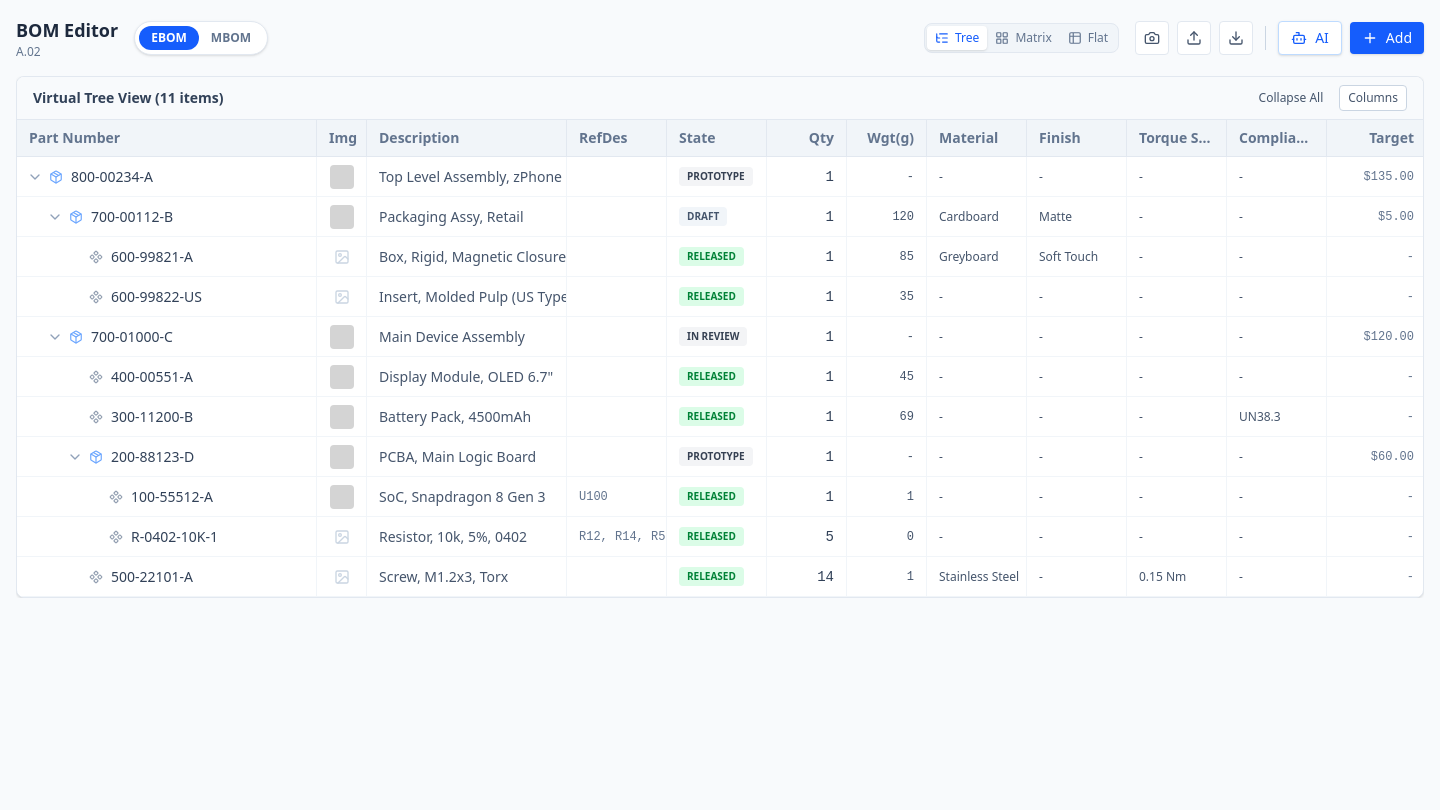
Scenario: role use-case frontend standards › lets Admin create a local BOM item from the Add flow
This screenshot has width=1440, height=810.
Click the button with aria-label "Add Item". click: (1387, 38)
box: x1=1350 y1=22 x2=1424 y2=54
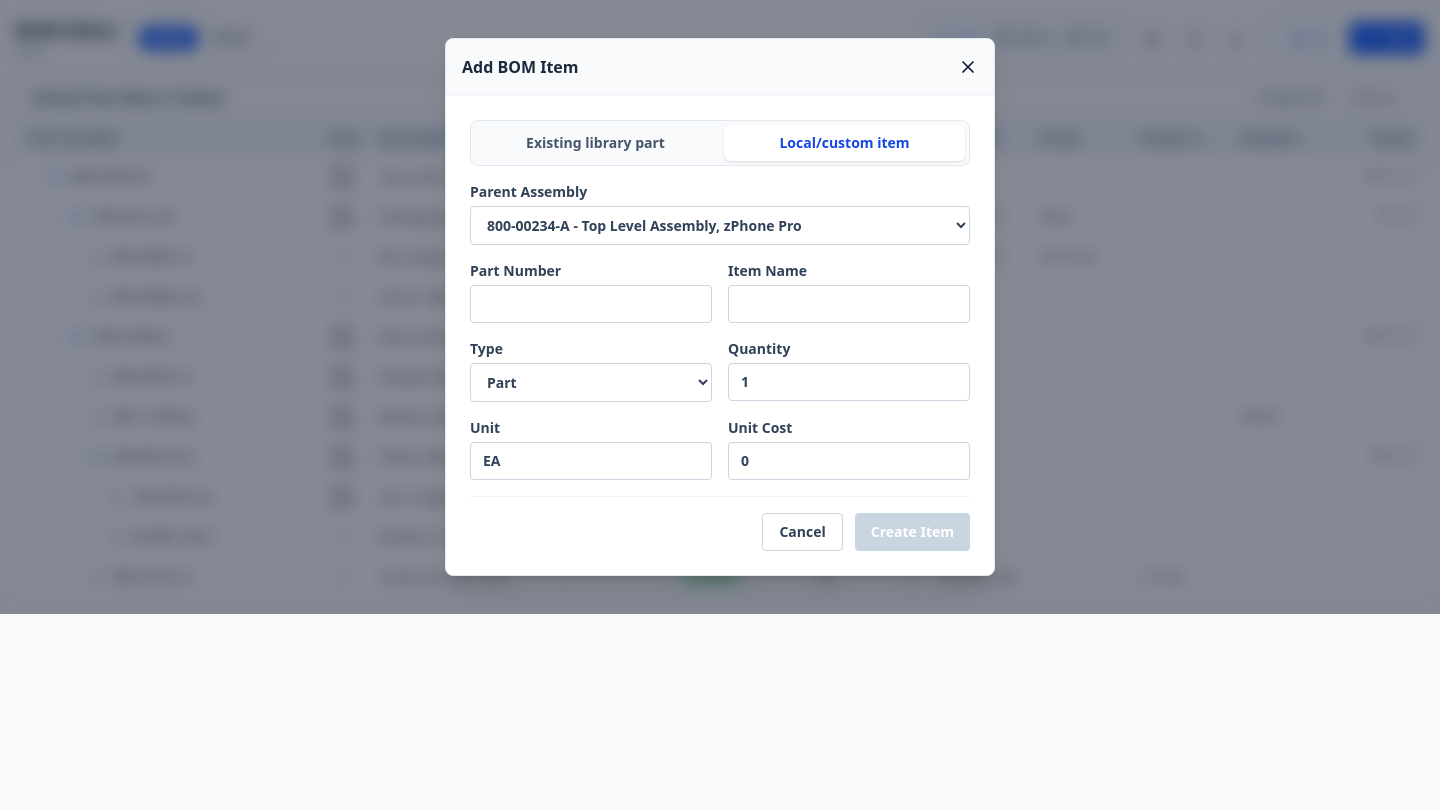
Type "900-TEST-001" into the field labelled "Part Number". click: (591, 304)
box: x1=470 y1=285 x2=712 y2=323
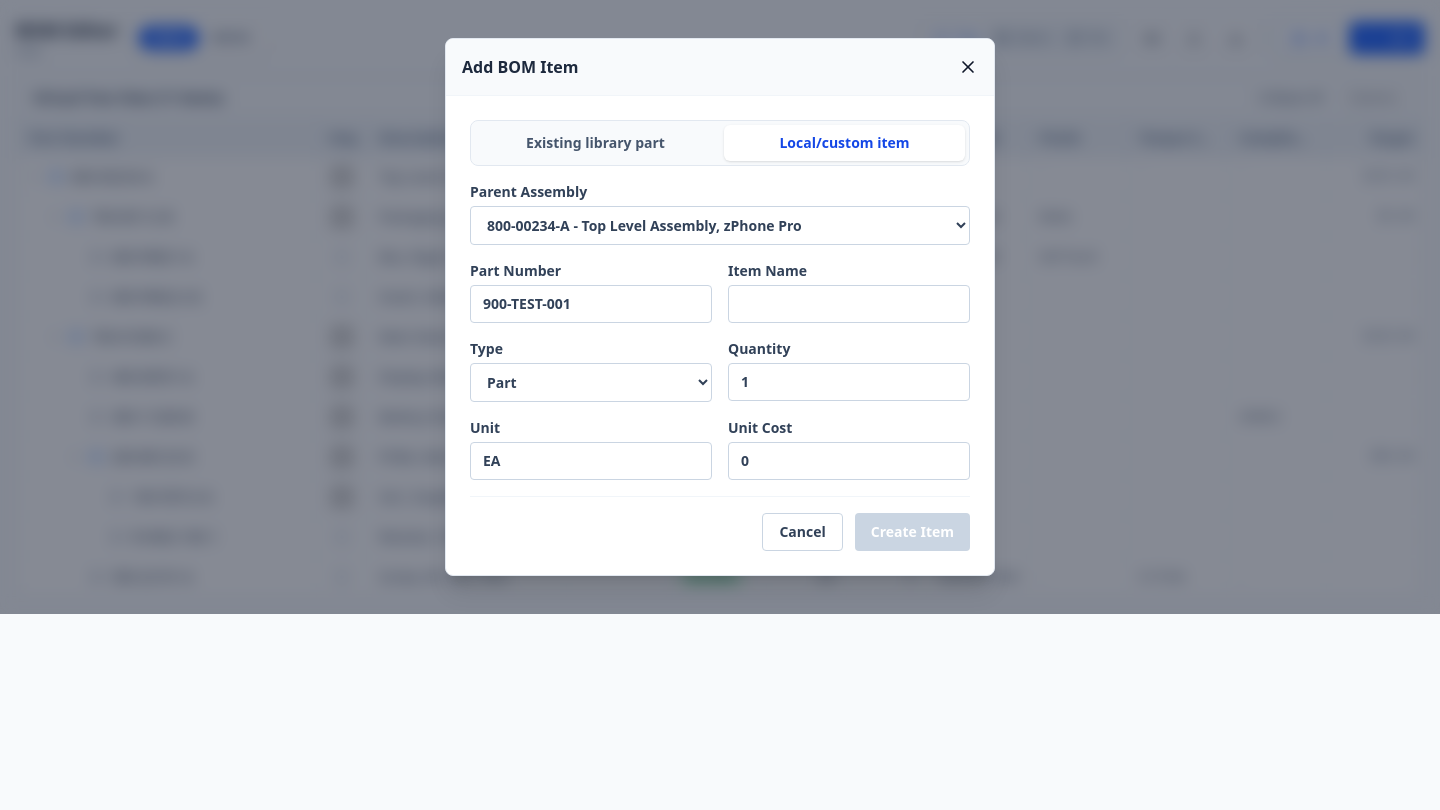
Type "QA Test Bracket" into the field labelled "Item Name". click: (849, 304)
box: x1=728 y1=285 x2=970 y2=323
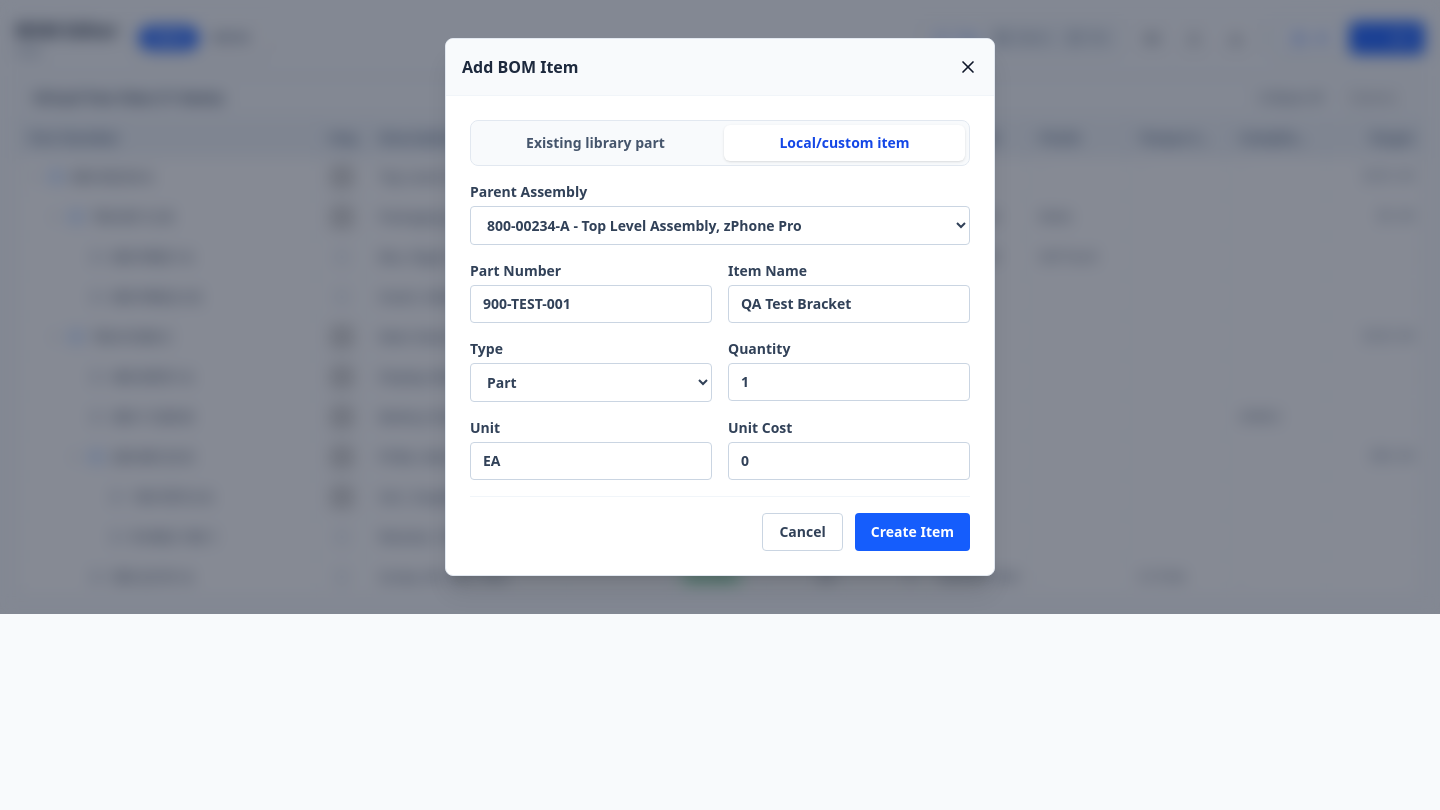
Replace the text in the number field labelled "Quantity" with "2". click: (849, 382)
box: x1=728 y1=363 x2=970 y2=401
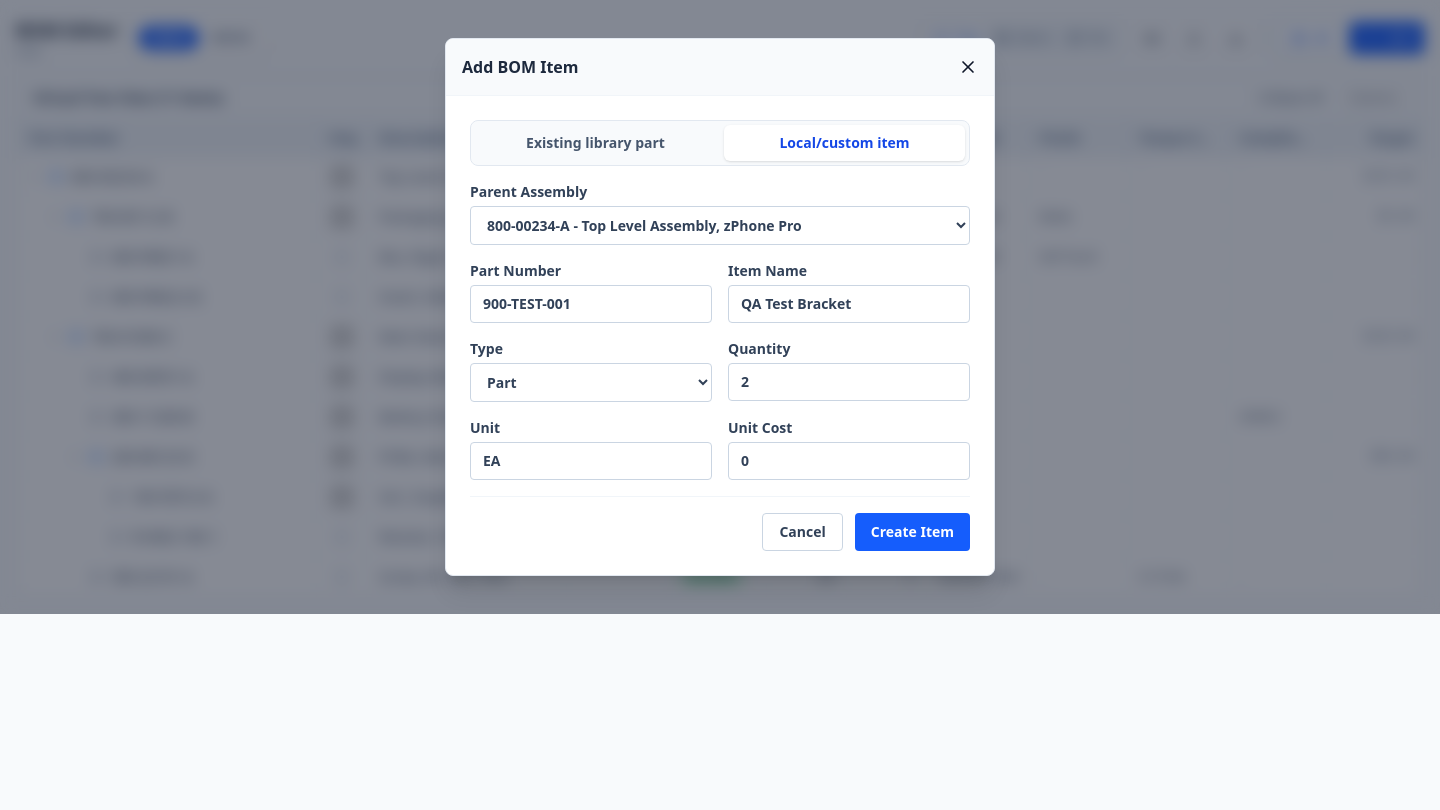
Click the button "Create Item". click: (912, 532)
box: x1=855 y1=513 x2=970 y2=551
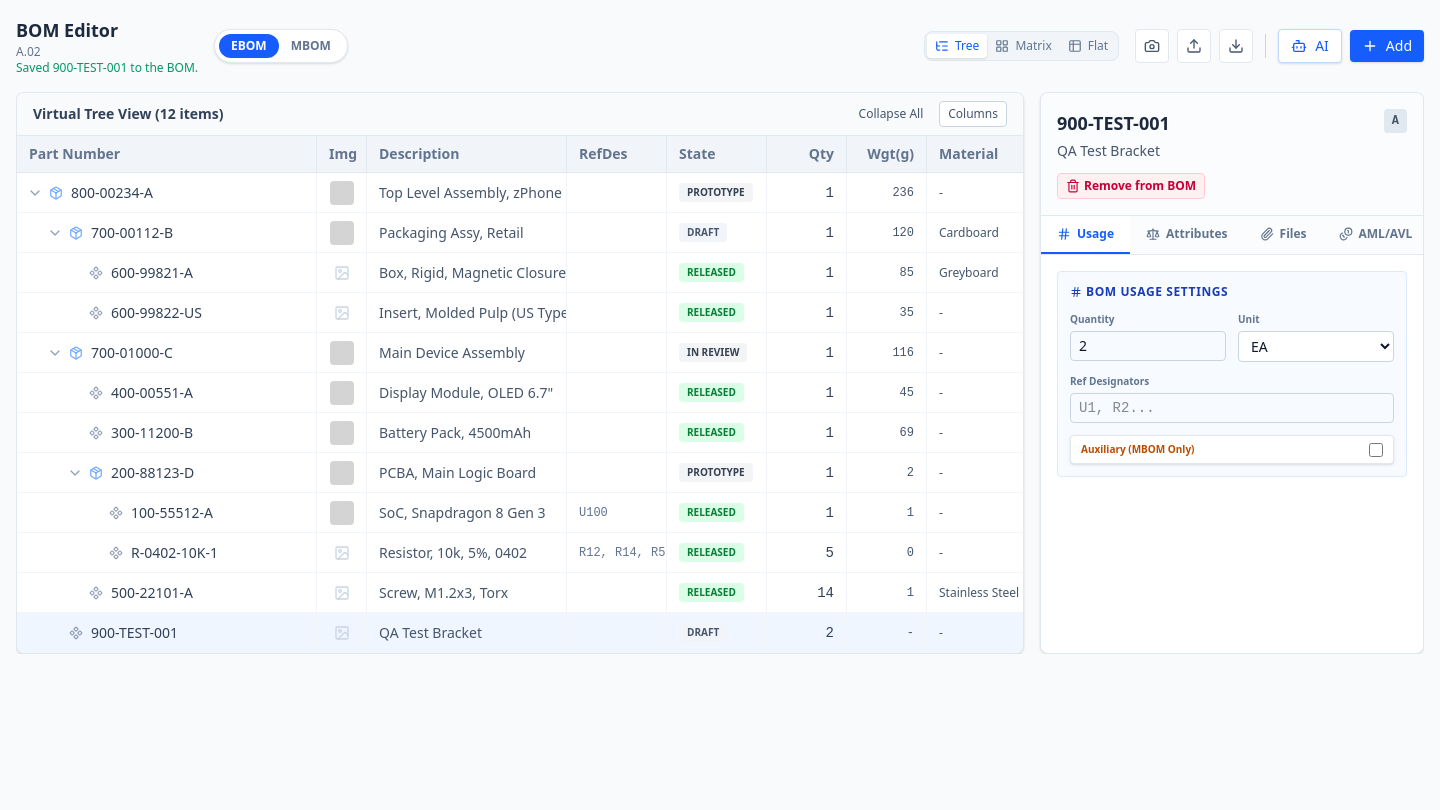
Expected: the text "900-TEST-001" is shown, x1=91 y1=622 x2=178 y2=642
Expected: the text "QA Test Bracket" below "200-88123-D" is shown, x1=379 y1=622 x2=482 y2=642
